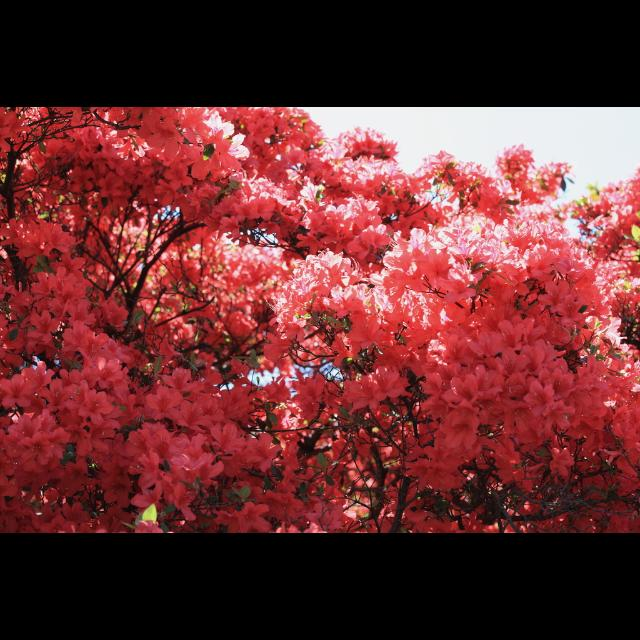Flower: (1, 107, 640, 533), (336, 124, 402, 160)
